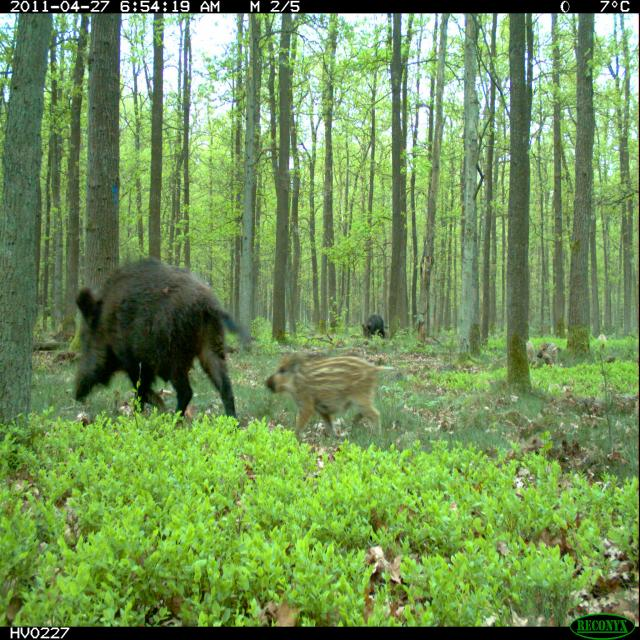boar: (50, 238, 265, 449), (256, 327, 401, 457), (355, 298, 393, 358), (506, 334, 538, 370), (536, 331, 565, 369)
